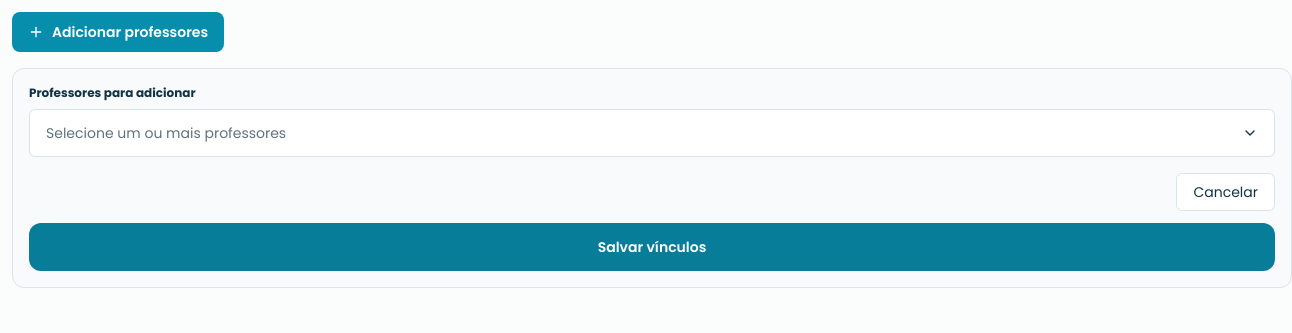
adicionar professores exige seleção, permite cancelar e salva
This screenshot has width=1292, height=333.
Earlier steps of the test are not shown.
Click the button "Salvar vínculos" at (652, 247), box [29,223,1275,271]
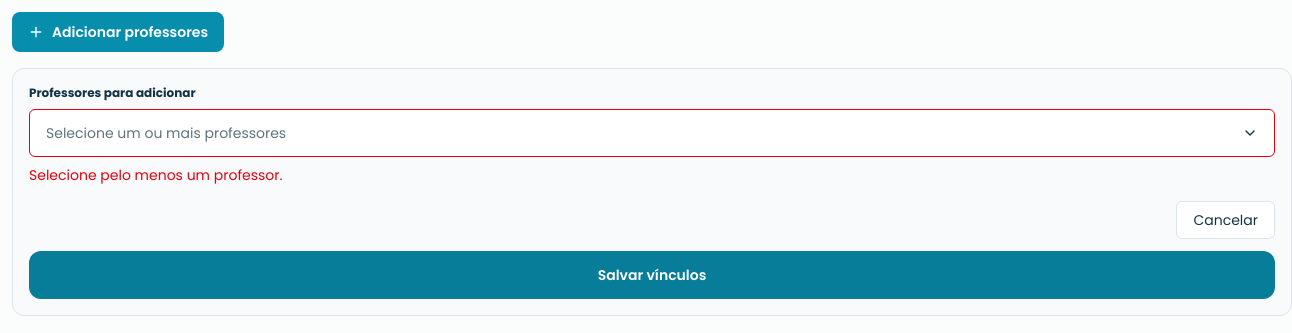
Check: the message shows "Selecione", box [29,165,282,185]
Click the button "Cancelar" at (1226, 220), box [1176,201,1275,239]
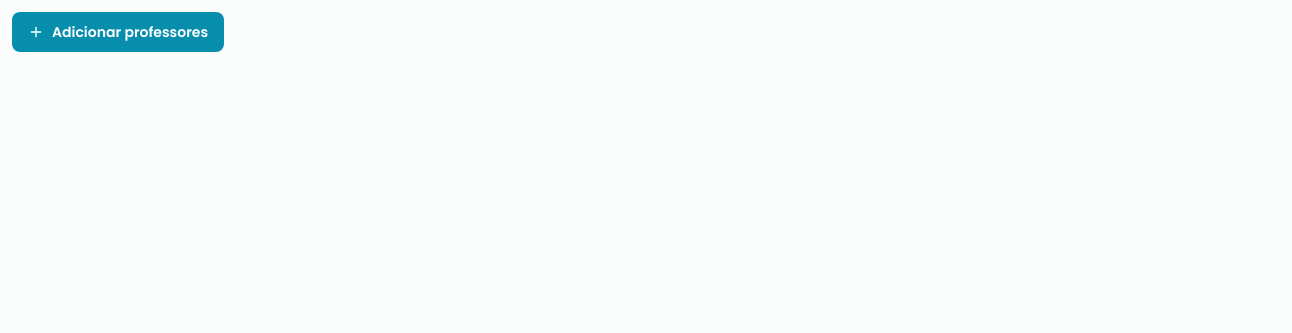
Click the button "Adicionar professores" at (118, 32), box [12,12,224,52]
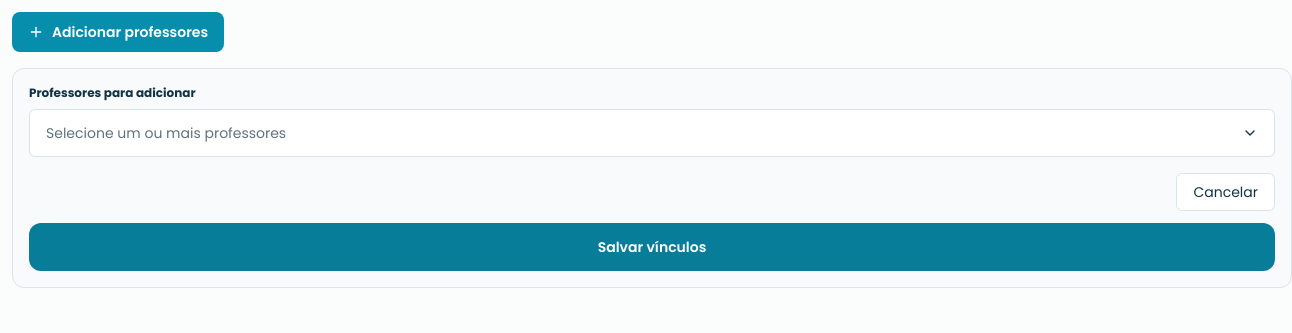
Click the button named "Professores para adicionar" at (166, 133), box [29,109,1275,157]
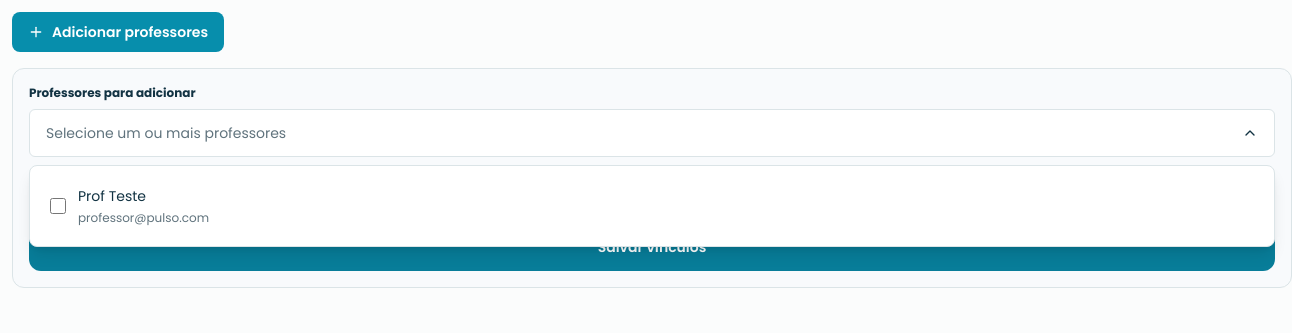
Click the checkbox at (58, 206), box [50,198,66,214]
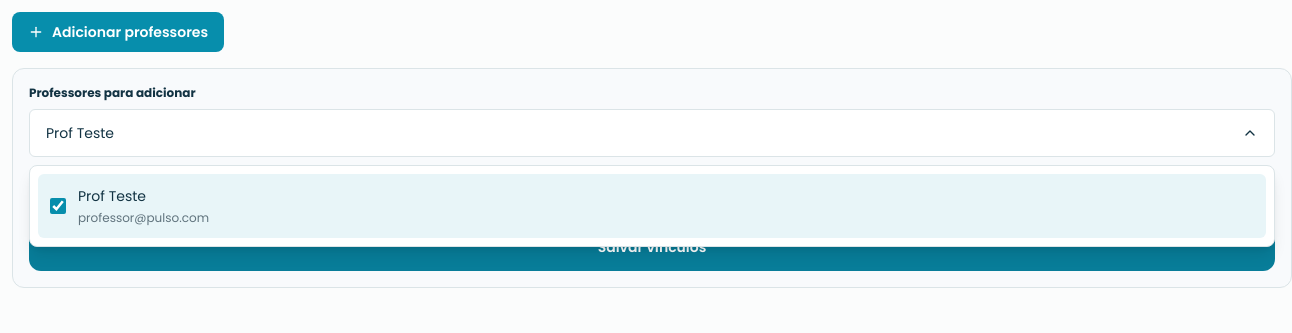
Click the button "Salvar vínculos" at (652, 247), box [29,223,1275,271]
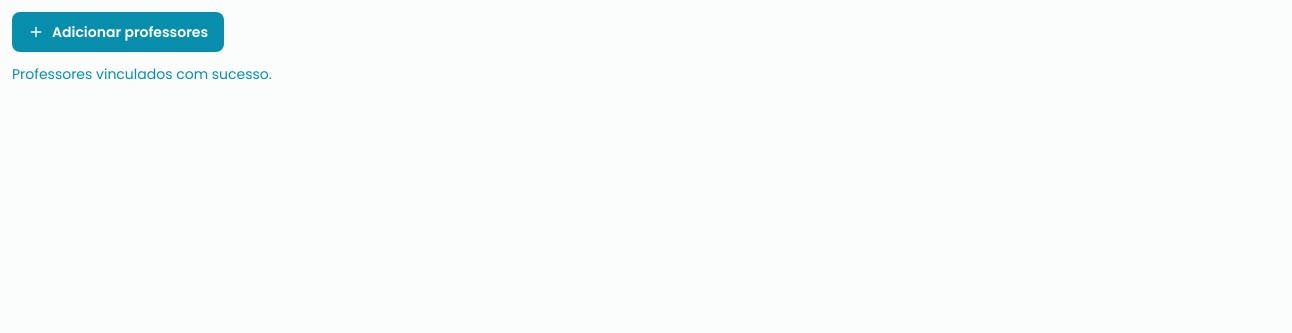
Check: the message shows "sucesso", box [12,64,272,84]
